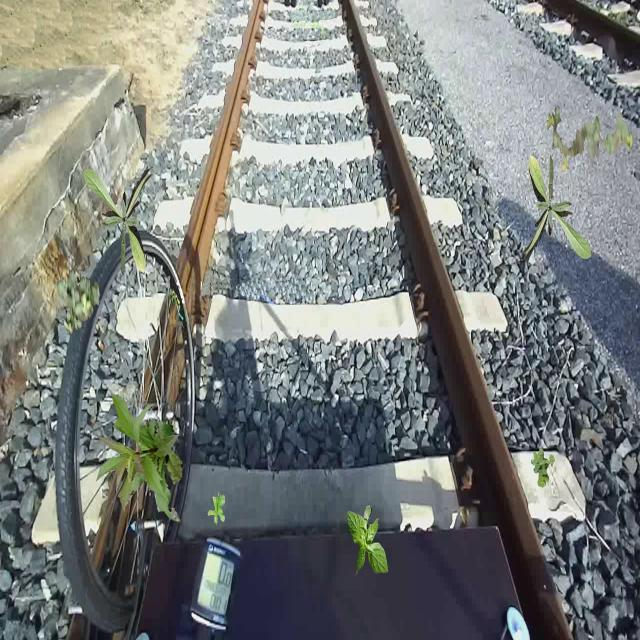Plant: (94, 393, 182, 523), (520, 154, 592, 262), (83, 167, 154, 275), (547, 104, 634, 172), (56, 269, 100, 336), (347, 505, 388, 576), (531, 448, 555, 489), (208, 493, 226, 525)
